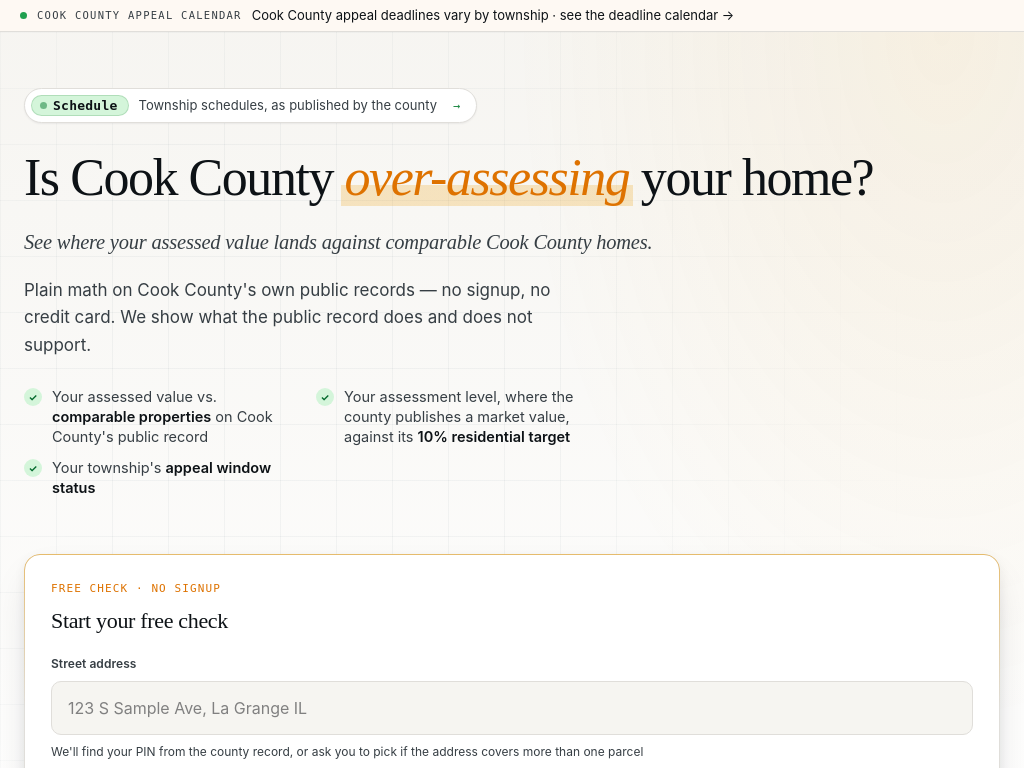
Scenario: jsdom: the homepage keeps the report's figures through normalization › states the total from the brief, not from the subject field beside it
This screenshot has width=1024, height=768.
Step 1. Type "1234 N Sample St, Chicago IL 60600" into the field with placeholder "123 S Sample Ave, La Grange IL" → (512, 708), box [51,681,973,735]
(page scrolled)
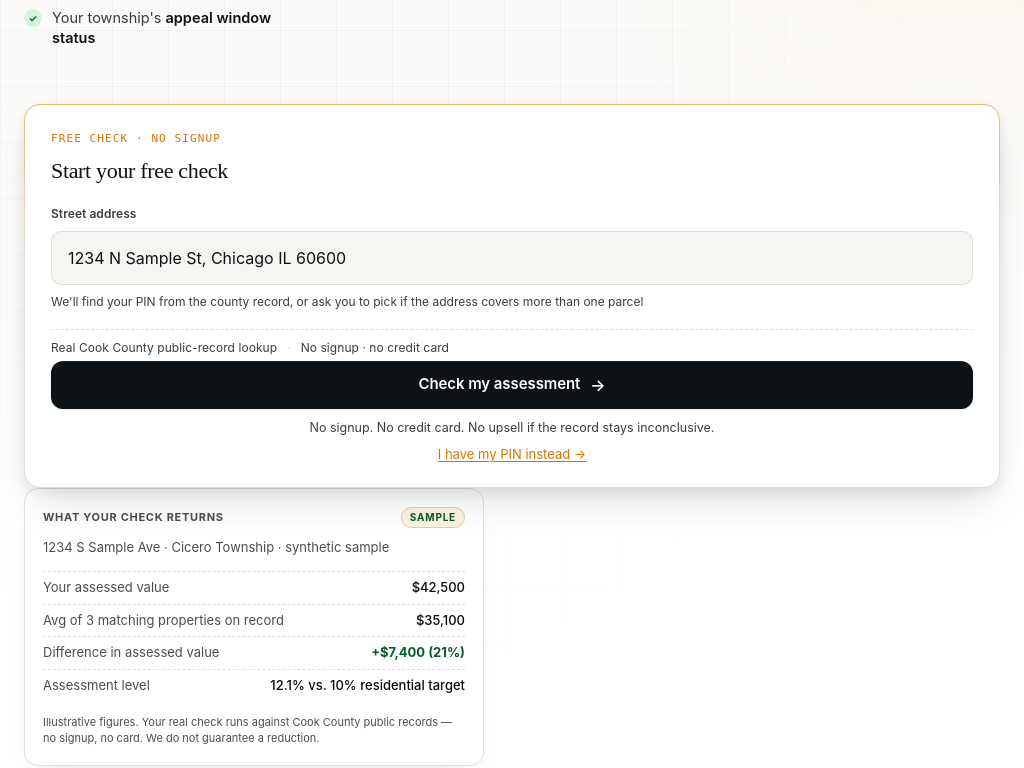
Step 2. Click the button "Check my assessment →" → (512, 384), box [51,360,973,408]
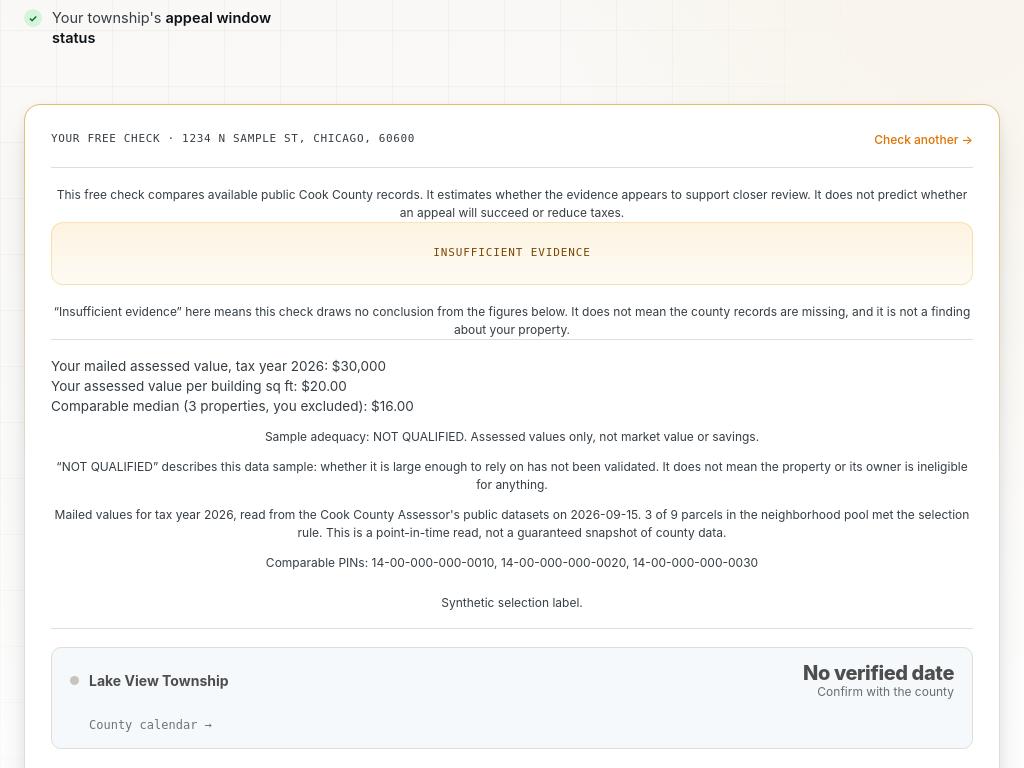
Result: the text "Your mailed assessed value, tax year 2026: $30,000" is shown at [51,356,386,376]
